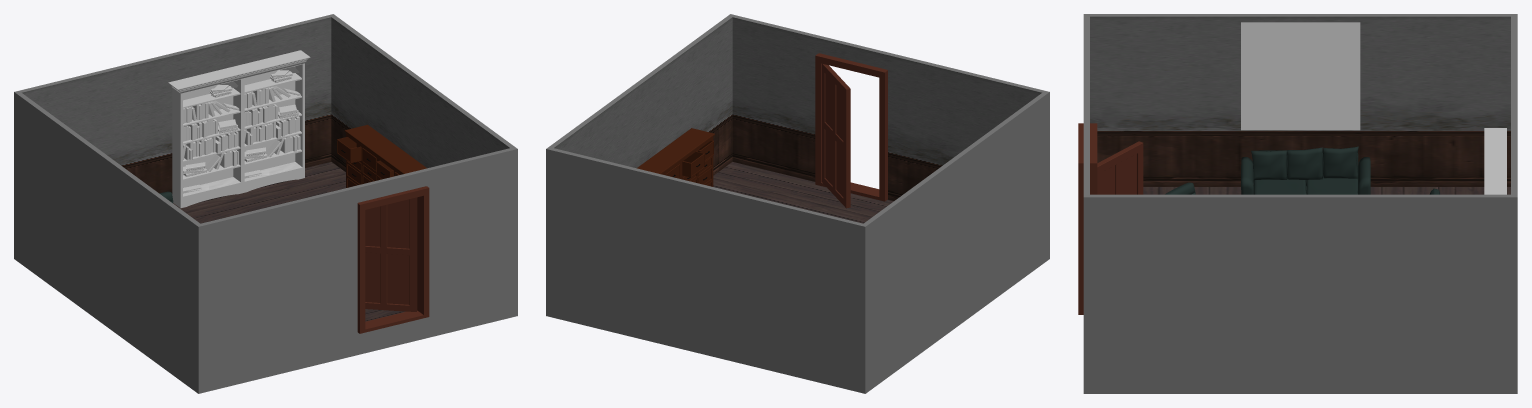
3 renders of one model, left to right at view 1: azimuth 30°, elevation 25°; view 2: azimuth 150°, elevation 25°; view 3: azimuth 270°, elevation 25°, orthographic. The views are drawn at different scales.
Visible parts, largest first — view 1: Cube.027, Cube.030, Cube.031, Cube.026, Cube.008, Old_Dusty_Bookshelf, Old_Dusty_Bookshelf.001, Cube, Cube.006, Old_Dusty_Bookshelf_Books.001, Old_Dusty_Bookshelf_Books, Cube.018 (+2 smaller); view 2: Cube.031, Cube.030, Cube.027, Cube.026, Cube, Cube.008, Cube.006, Cube.034, Cube.023, Cube.014; view 3: Cube.026, Cube.030, Plane, dessous, Cube.008, Cube.006, Cube, Cube.027, Cube.031, Old_Dusty_Bookshelf, Old_Dusty_Bookshelf.001.
Boxes of the visible parts, left/top/right/bottom form: Cube.027: left=198, top=148, right=517, bottom=393; Cube.030: left=14, top=92, right=200, bottom=393; Cube.031: left=14, top=14, right=333, bottom=193; Cube.026: left=331, top=14, right=517, bottom=168; Cube.008: left=365, top=197, right=417, bottom=311; Old_Dusty_Bookshelf: left=168, top=65, right=249, bottom=208; Old_Dusty_Bookshelf.001: left=233, top=50, right=310, bottom=193; Cube: left=173, top=123, right=405, bottom=321; Cube.006: left=357, top=186, right=429, bottom=333; Old_Dusty_Bookshelf_Books.001: left=244, top=70, right=300, bottom=178; Old_Dusty_Bookshelf_Books: left=183, top=85, right=239, bottom=193; Cube.018: left=344, top=124, right=400, bottom=187; Cube.031: left=546, top=148, right=865, bottom=393; Cube.030: left=863, top=92, right=1049, bottom=393; Cube.027: left=730, top=14, right=1049, bottom=171; Cube.026: left=546, top=14, right=732, bottom=168; Cube: left=713, top=123, right=933, bottom=223; Cube.008: left=822, top=63, right=850, bottom=208; Cube.006: left=815, top=53, right=887, bottom=201; Cube.034: left=659, top=128, right=714, bottom=186; Cube.023: left=637, top=152, right=682, bottom=178; Cube.014: left=682, top=151, right=704, bottom=177; Cube.026: left=1083, top=194, right=1517, bottom=393; Cube.030: left=1084, top=14, right=1516, bottom=186; Plane: left=1241, top=22, right=1360, bottom=130; dessous: left=1241, top=146, right=1370, bottom=194; Cube.008: left=1097, top=141, right=1143, bottom=194; Cube.006: left=1078, top=123, right=1097, bottom=314; Cube: left=1143, top=187, right=1510, bottom=194; Cube.027: left=1083, top=14, right=1089, bottom=196; Cube.031: left=1511, top=14, right=1517, bottom=197; Old_Dusty_Bookshelf: left=1484, top=128, right=1506, bottom=169; Old_Dusty_Bookshelf.001: left=1484, top=169, right=1506, bottom=194.
Size of the model in its own units: 600 by 300 by 607.
